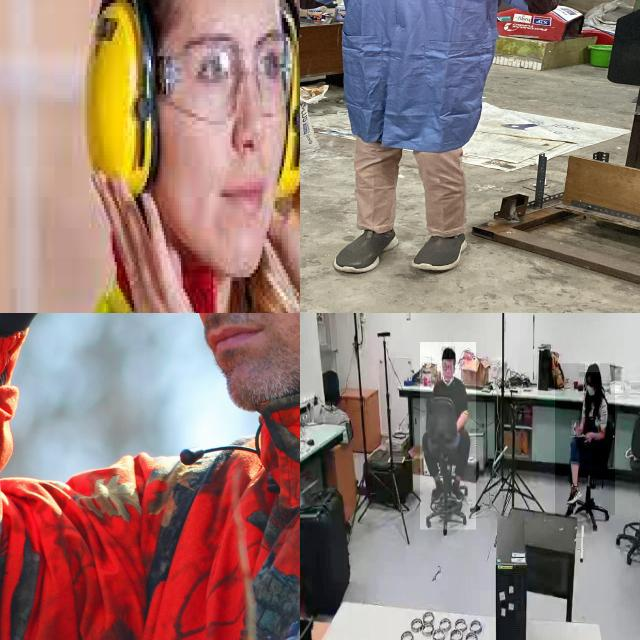Ear-protection: (83, 0, 300, 198)
face_mask: (585, 372, 601, 396)
face_nomask: (441, 360, 455, 381)
hand_noglove: (572, 420, 584, 436), (582, 429, 594, 443)
head_nohelmet: (442, 346, 456, 360), (585, 363, 600, 373)
person: (300, 0, 575, 283), (420, 342, 476, 530), (555, 364, 615, 516)
shoes: (325, 221, 410, 278), (405, 226, 478, 277), (565, 478, 583, 508), (449, 477, 465, 505), (430, 478, 446, 505)
